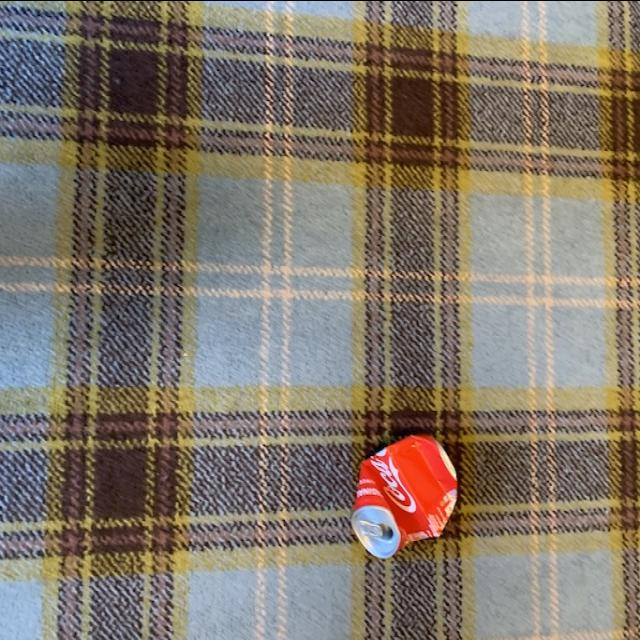litter: (349, 426, 468, 564)
